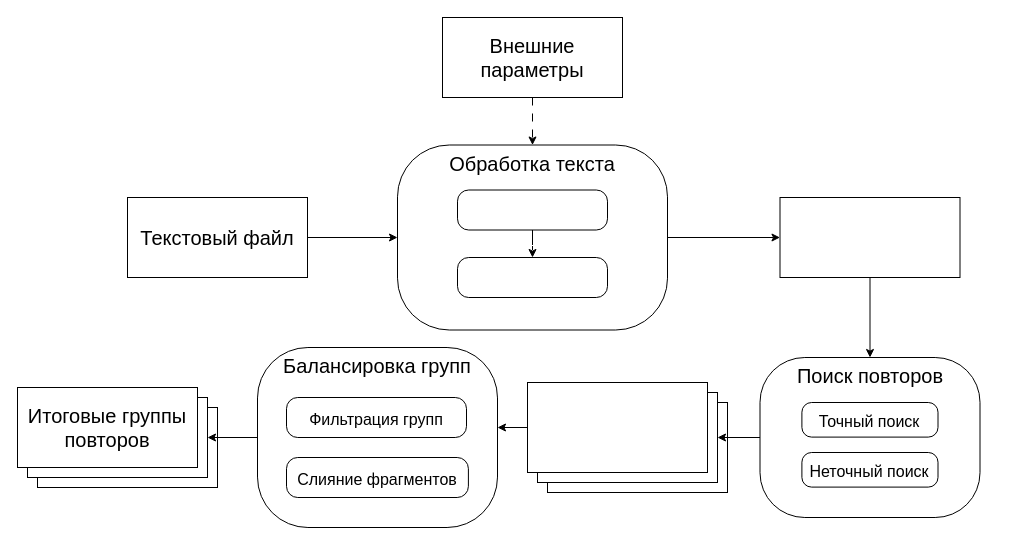
Some shapes in this 1015 by 545 pixel diagram are drawn without their labels. The shapes that lost their labels are listed below. From the top down, each one's centre as x and y in pixels, then its label:
[532,209]: NLP обработка
[869,237]: Представление текста
[532,277]: Токенизация
[617,427]: Предварительные группы повторов
